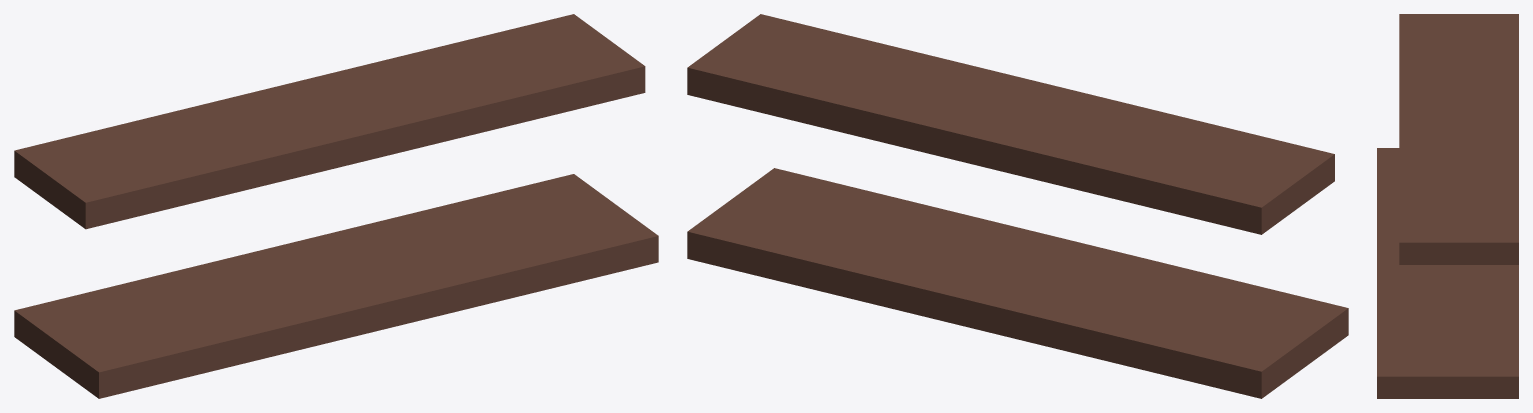
File: Shelf_wall.fbx
3 views of the same model, side by side, from view 1: azimuth 30°, elevation 25°; view 2: azimuth 150°, elevation 25°; view 3: azimuth 270°, elevation 25° (orthographic). The views are drawn at different scales.
Parts seen in each view (by area): view 1: Cube.004; view 2: Cube.004; view 3: Cube.004.
Boxes of the visible parts, <box> form: Cube.004: <box>14,14,658,398</box>; Cube.004: <box>687,14,1348,398</box>; Cube.004: <box>1377,14,1518,398</box>.
Size of the model in its own units: 185 by 58.74 by 48.4.
